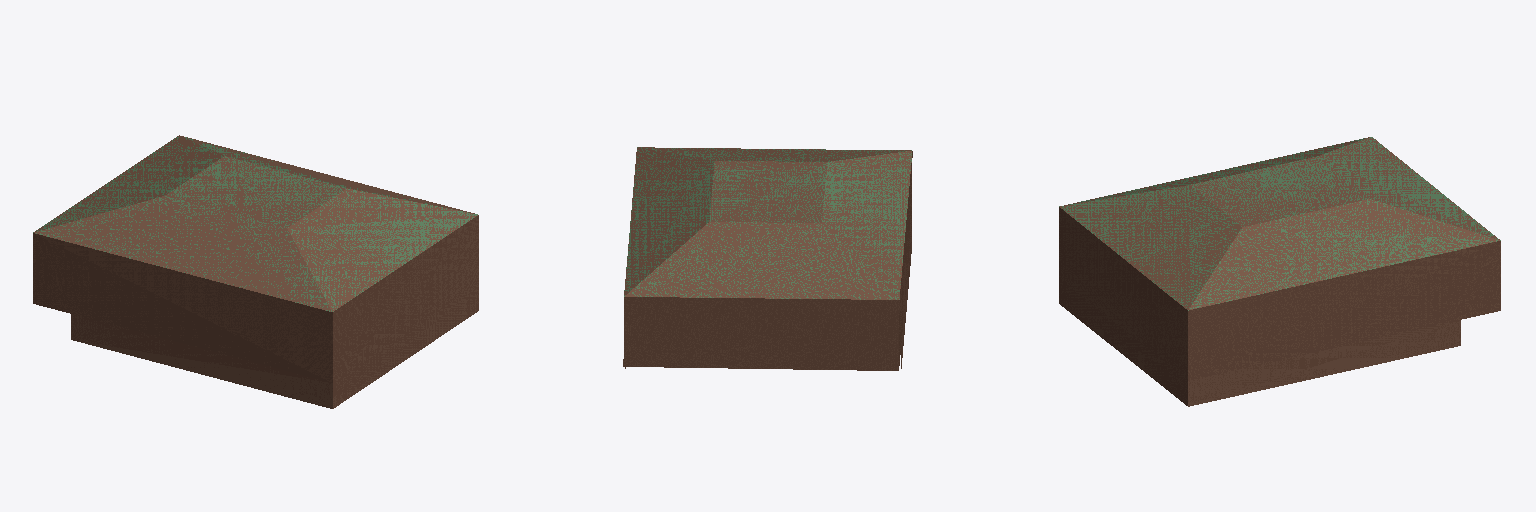
Rendered from maison.obj.
3 renders of one model, left to right at view 1: azimuth 30°, elevation 25°; view 2: azimuth 150°, elevation 25°; view 3: azimuth 270°, elevation 25°, orthographic.
Parts seen in each view (by area): view 1: Mesh1 Maison_des_gardiens Model; view 2: Mesh1 Maison_des_gardiens Model; view 3: Mesh1 Maison_des_gardiens Model.
Boxes of the visible parts, x1,y1,x2,y2 form: Mesh1 Maison_des_gardiens Model: [33, 135, 478, 408]; Mesh1 Maison_des_gardiens Model: [623, 147, 912, 370]; Mesh1 Maison_des_gardiens Model: [1059, 137, 1500, 406].
Bounding box in the file's own units: 16.58 × 5.74 × 17.89.